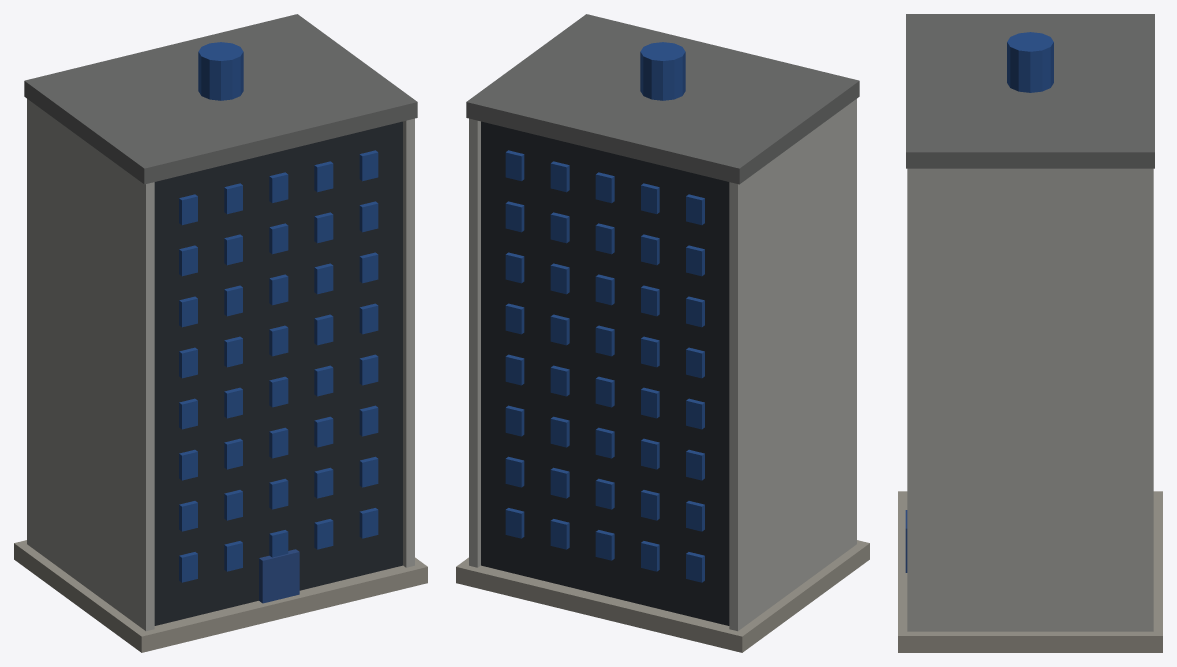
File: bld_residential_a09.glb
3 renders of one model, left to right at view 1: azimuth 30°, elevation 25°; view 2: azimuth 150°, elevation 25°; view 3: azimuth 270°, elevation 25°, orthographic. The views are drawn at different scales.
Parts seen in each view (by area): view 1: body; view 2: body; view 3: body.
Part boxes in pixels (x1=…): body: x1=14, y1=14, x2=427, y2=652; body: x1=456, y1=14, x2=869, y2=652; body: x1=898, y1=14, x2=1162, y2=652.
Size of what is drawn, in the model's own units: 6.6 by 11.45 by 5.1.
